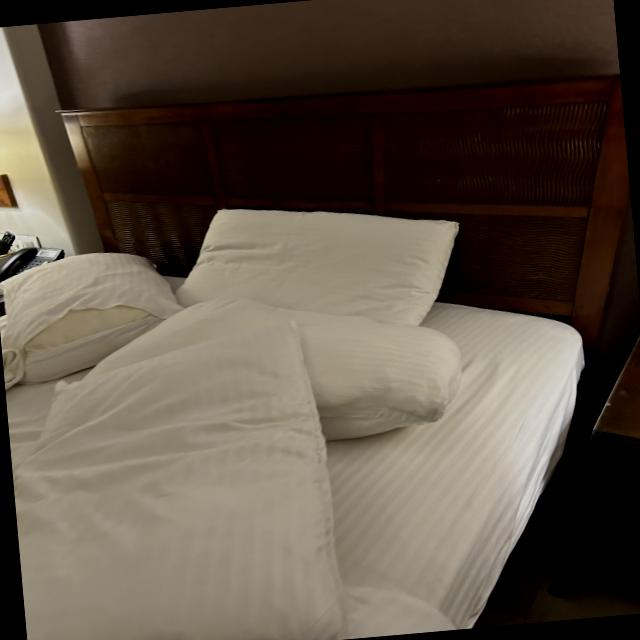mess: (0, 181, 603, 640)
